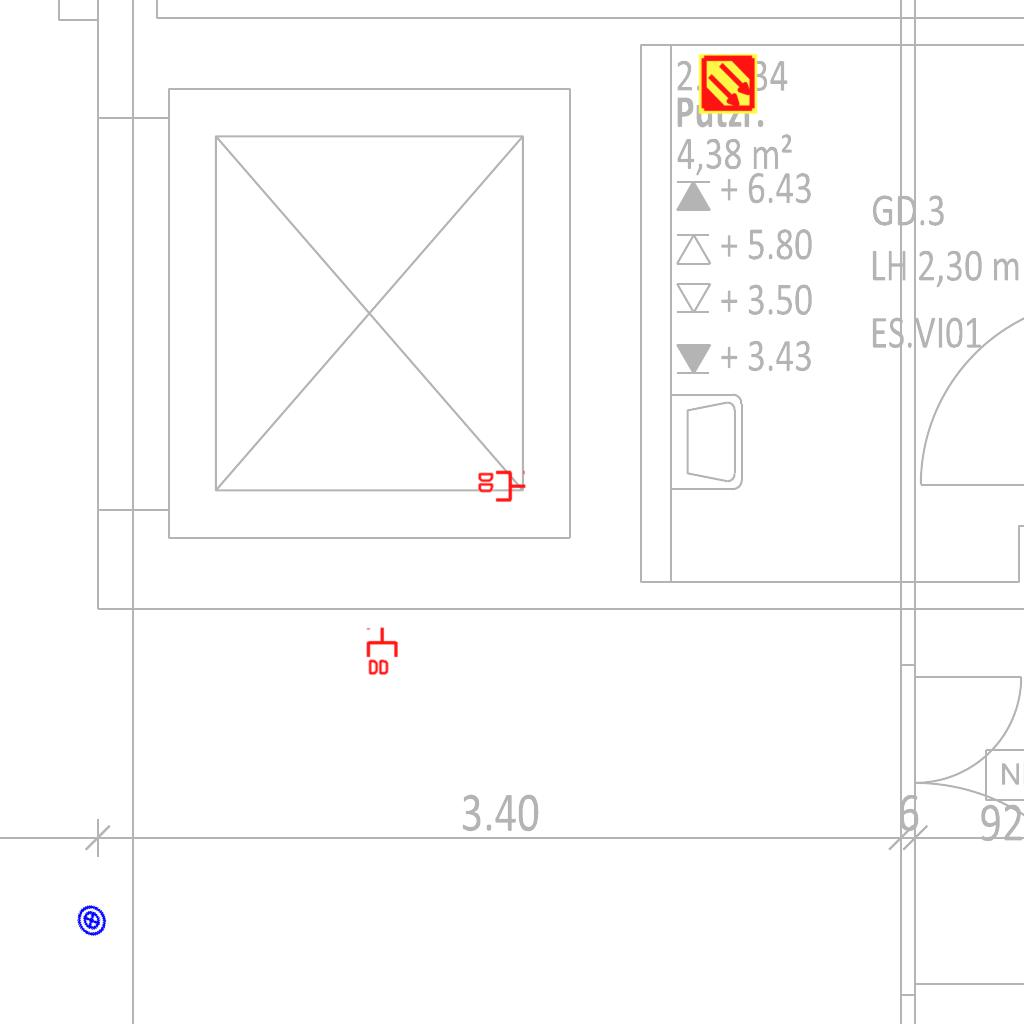ASR_Ansaugrauchmelder: (697, 53, 759, 115)
Datenanschluss_zweifach: (366, 626, 400, 677), (476, 470, 527, 504)
Taster_beleuchtet: (69, 898, 114, 943)
